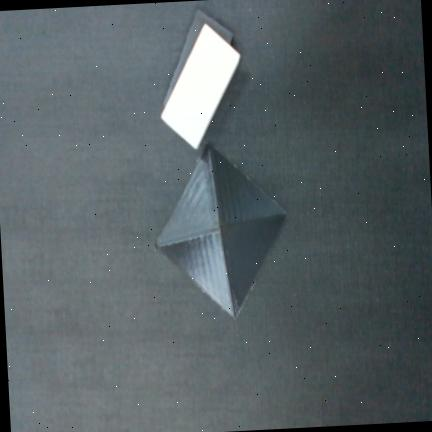Paralelepipedo: (159, 23, 242, 151), (160, 5, 234, 128)
Piramide: (156, 139, 292, 321)
